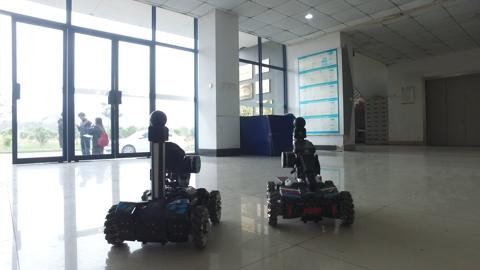chariot: (96, 109, 227, 254), (256, 111, 365, 234)
